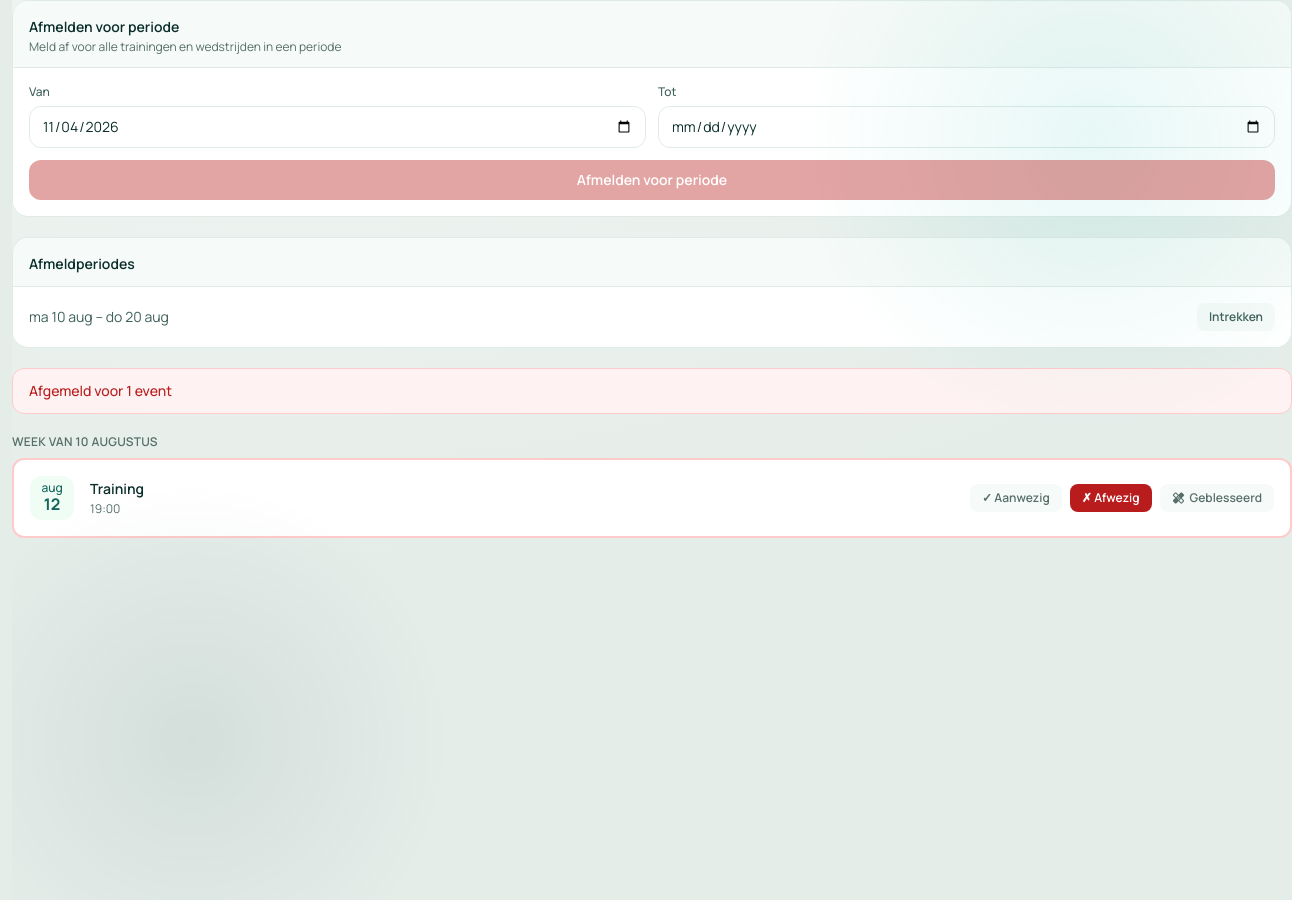
Test: foutafhandeling rond markAbsentForPeriod/revokeAbsencePeriod (bevinding 4) › draait de optimistische terugval terug en toont een foutmelding als revokeAbsencePeriod afwijst
The width and height of the screenshot is (1292, 900).
Click the button "Intrekken" at {"x": 1236, "y": 317}, box [1197, 303, 1275, 331]
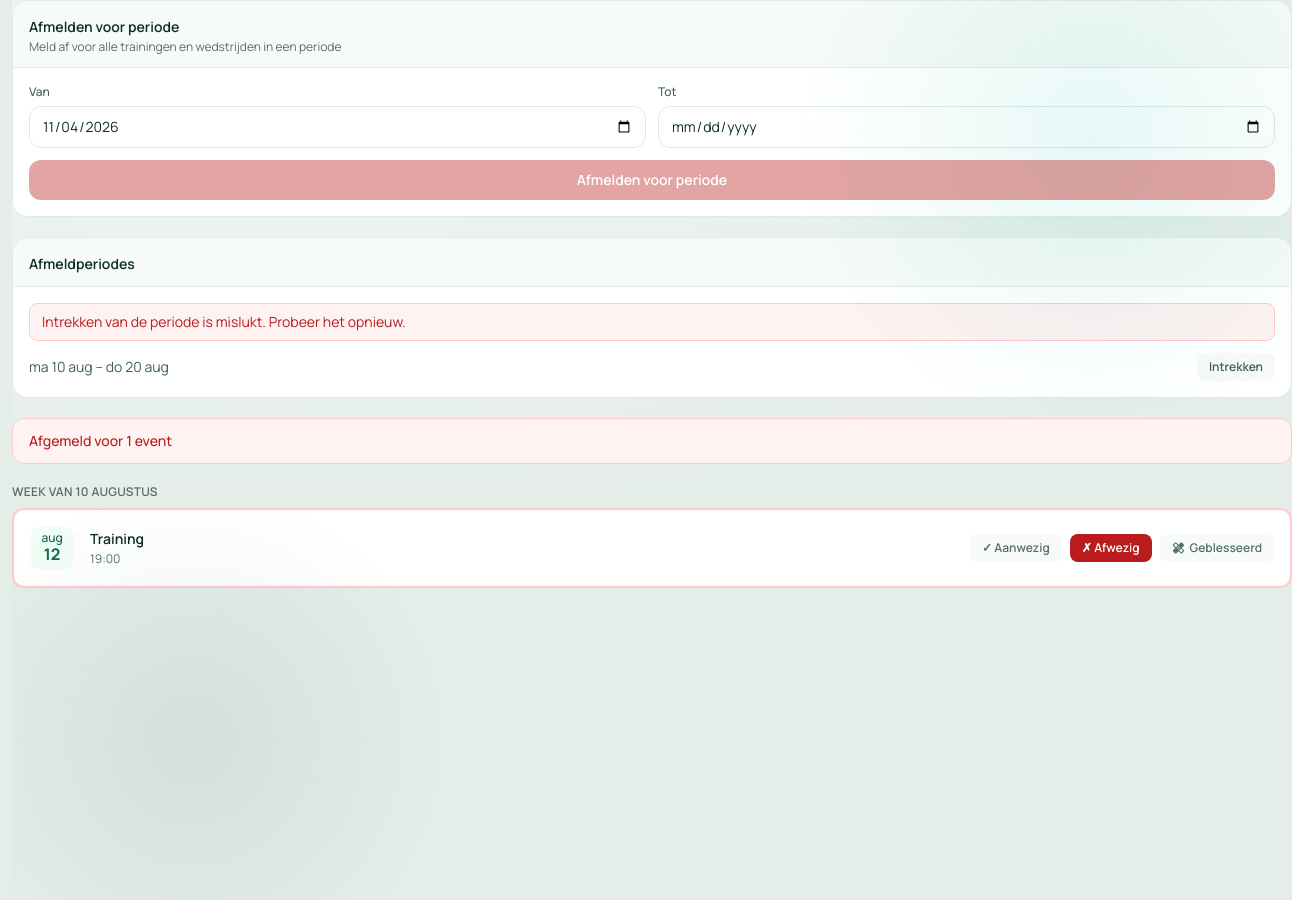
Expected: the text "Intrekken van de periode is mislukt. Probeer het opnieuw." is shown, [29, 303, 1275, 341]
